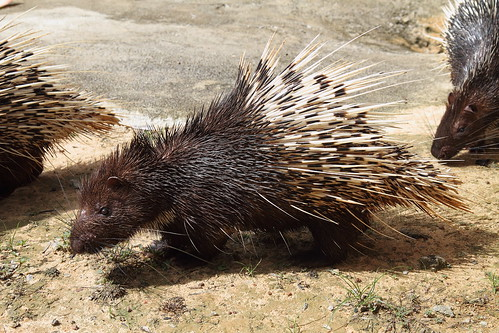porcupine: (65, 36, 455, 292), (1, 12, 124, 234), (430, 1, 499, 163)
